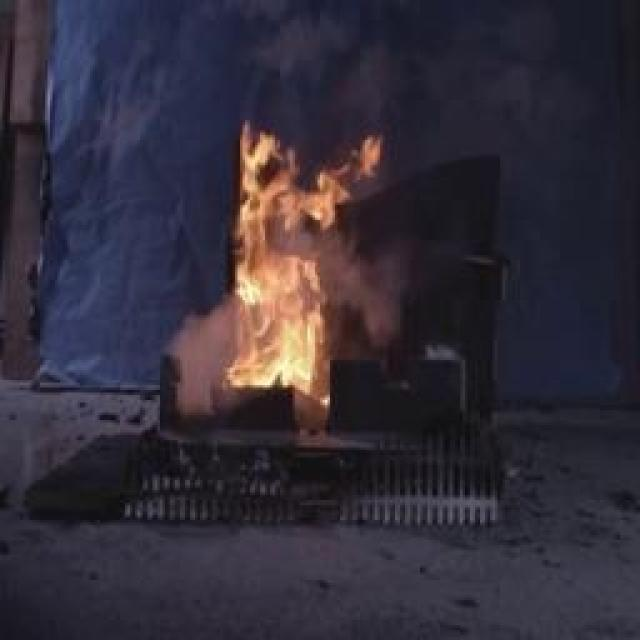fire: (204, 114, 404, 424)
